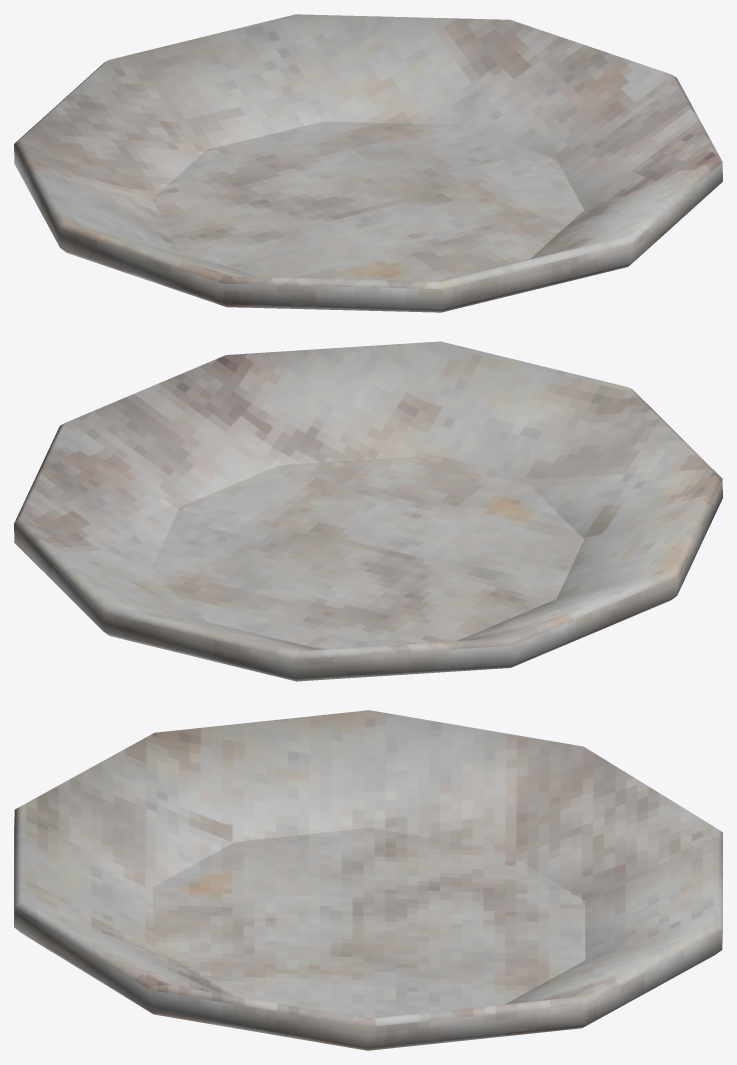
Rendered from _Plate_1.FBX.
The picture shows the model from 3 angles, top to bottom: view 1: azimuth 30°, elevation 25°; view 2: azimuth 150°, elevation 25°; view 3: azimuth 270°, elevation 25°; orthographic projection. The views are drawn at different scales.
Visible parts, largest first — view 1: _Plate_1; view 2: _Plate_1; view 3: _Plate_1.
Part boxes in pixels (<box>): _Plate_1: <box>14,14,722,312</box>; _Plate_1: <box>14,341,722,681</box>; _Plate_1: <box>14,710,722,1050</box>.
Size of the model in its own units: 50 by 6.35 by 47.58.
1 material, 1 textured.
